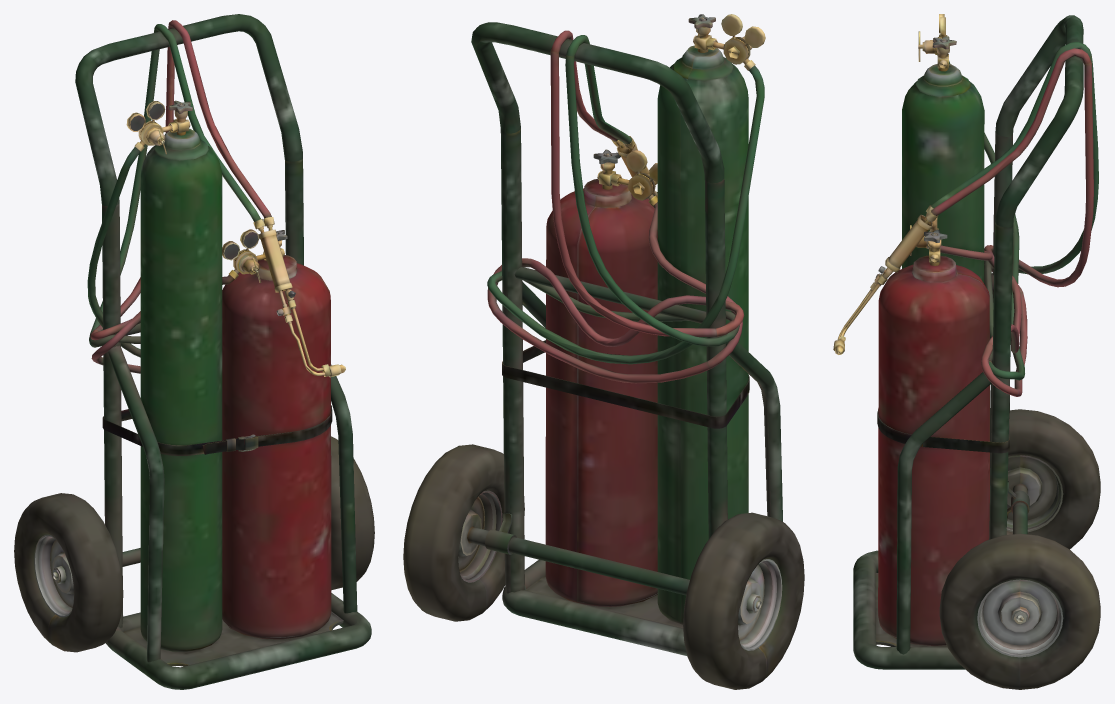
Rendered from portable_welding_cart_lod1.glb.
The picture shows the model from 3 angles, left to right: view 1: azimuth 30°, elevation 25°; view 2: azimuth 150°, elevation 25°; view 3: azimuth 270°, elevation 25°; orthographic projection. The views are drawn at different scales.
Parts seen in each view (by area): view 1: portable_welding_cart; view 2: portable_welding_cart; view 3: portable_welding_cart.
Part boxes in pixels (box(x1,y1,x2,y2)): portable_welding_cart: box(14, 14, 374, 689); portable_welding_cart: box(403, 14, 804, 689); portable_welding_cart: box(833, 14, 1100, 689).
Bounding box in the file's own units: 0.8365 × 1.56 × 0.655.
2 materials, 2 textured.
